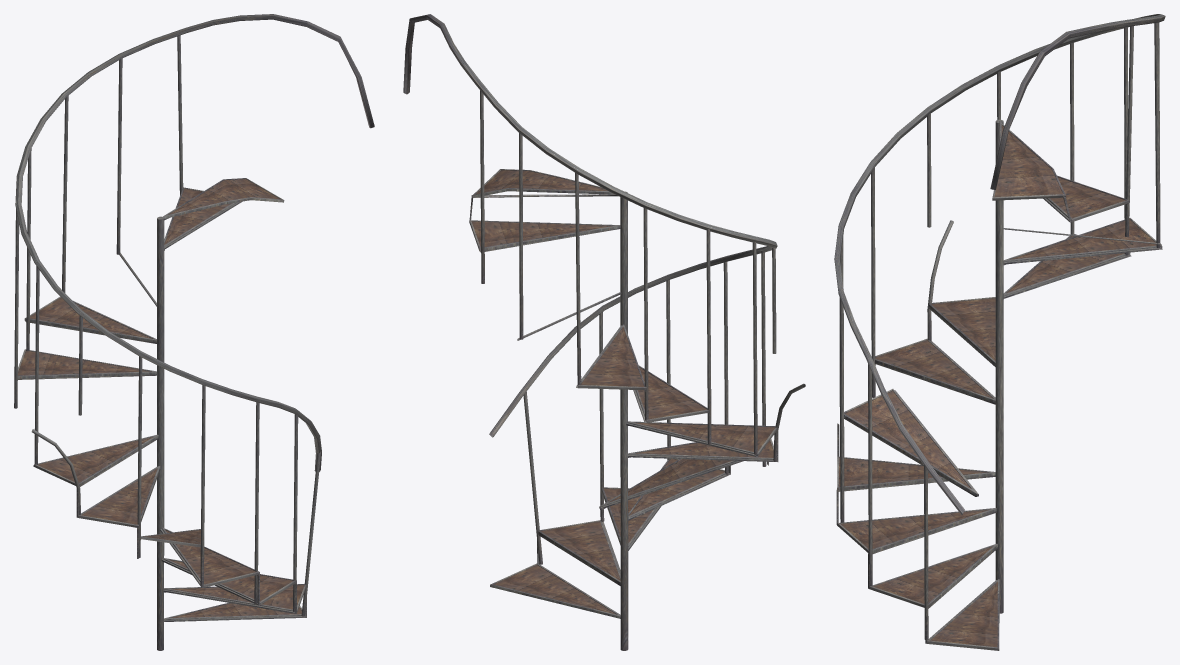
The model's file is stairs.fbx.
3 renders of one model, left to right at view 1: azimuth 30°, elevation 25°; view 2: azimuth 150°, elevation 25°; view 3: azimuth 270°, elevation 25°, orthographic. The views are drawn at different scales.
Parts seen in each view (by area): view 1: Spiral_Stairs, Spiral_Stairs.001; view 2: Spiral_Stairs, Spiral_Stairs.001; view 3: Spiral_Stairs, Spiral_Stairs.001.
Boxes of the visible parts, x1,y1,x2,y2 form: Spiral_Stairs: [14, 14, 374, 650]; Spiral_Stairs.001: [141, 529, 200, 547]; Spiral_Stairs: [403, 14, 805, 650]; Spiral_Stairs.001: [599, 459, 743, 509]; Spiral_Stairs: [834, 14, 1165, 650]; Spiral_Stairs.001: [844, 389, 978, 496].
Size of the model in its own units: 285 by 436 by 199.
2 materials, 2 textured.
